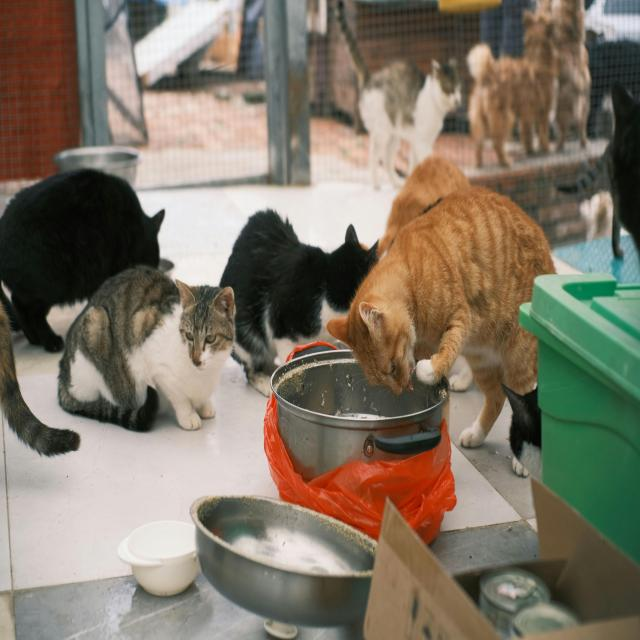cat: (329, 188, 554, 446), (0, 169, 165, 352), (220, 210, 378, 396), (58, 266, 235, 431), (338, 2, 461, 188), (558, 82, 640, 257), (466, 11, 555, 167), (0, 304, 80, 456), (378, 158, 470, 257), (551, 0, 591, 150), (502, 384, 541, 480)
